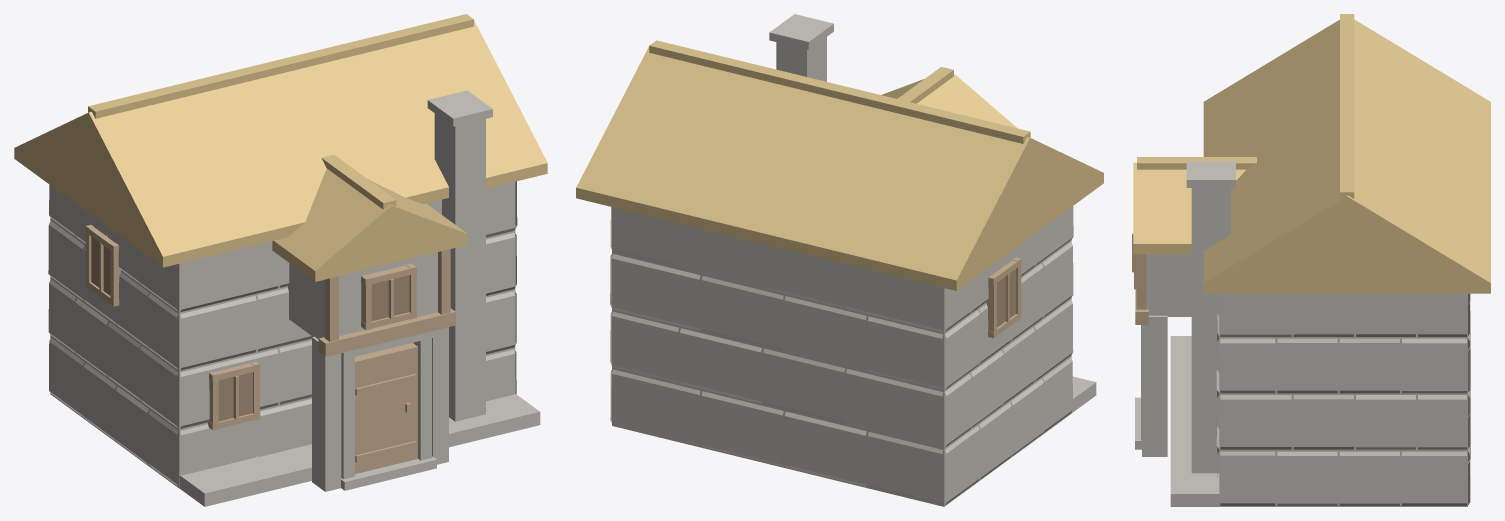
Rendered from stone-house-tower-loft.glb.
3 views of the same model, side by side, from view 1: azimuth 30°, elevation 25°; view 2: azimuth 150°, elevation 25°; view 3: azimuth 270°, elevation 25° (orthographic). The views are drawn at different scales.
Visible parts, largest first — view 1: stone-house-tower-loft_stone, stone-house-tower-loft_roof, stone-house-tower-loft_wood, stone-house-tower-loft_door, stone-house-tower-loft_window; view 2: stone-house-tower-loft_stone, stone-house-tower-loft_roof, stone-house-tower-loft_wood, stone-house-tower-loft_window; view 3: stone-house-tower-loft_stone, stone-house-tower-loft_roof, stone-house-tower-loft_wood.
Part boxes in pixels (x1=…): stone-house-tower-loft_stone: x1=48, y1=90, x2=540, y2=506; stone-house-tower-loft_roof: x1=14, y1=14, x2=547, y2=281; stone-house-tower-loft_wood: x1=85, y1=225, x2=455, y2=430; stone-house-tower-loft_door: x1=355, y1=343, x2=417, y2=473; stone-house-tower-loft_window: x1=91, y1=237, x2=409, y2=421; stone-house-tower-loft_stone: x1=610, y1=14, x2=1096, y2=506; stone-house-tower-loft_roof: x1=576, y1=40, x2=1103, y2=290; stone-house-tower-loft_wood: x1=986, y1=257, x2=1021, y2=338; stone-house-tower-loft_window: x1=997, y1=269, x2=1015, y2=327; stone-house-tower-loft_stone: x1=1135, y1=161, x2=1470, y2=506; stone-house-tower-loft_roof: x1=1133, y1=14, x2=1490, y2=293; stone-house-tower-loft_wood: x1=1132, y1=233, x2=1148, y2=324.
Size of the model in its own units: 2 by 1.67 by 1.67.
